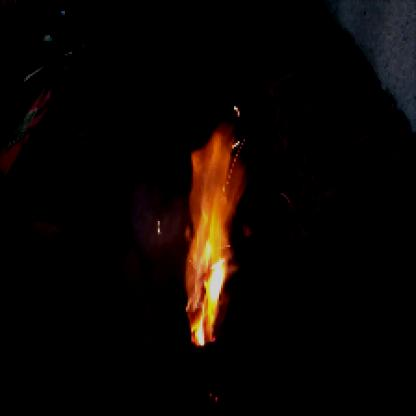Fire: (173, 111, 254, 353)
